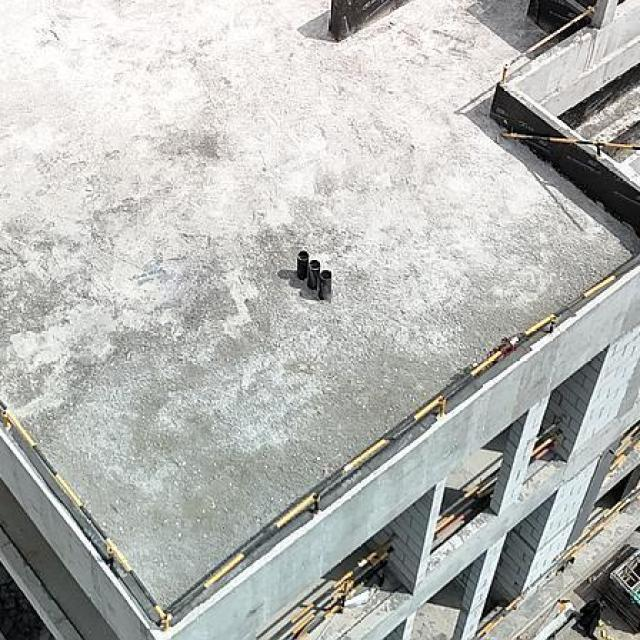edge_guardrail: (0, 249, 640, 632), (270, 532, 394, 639), (502, 5, 594, 84), (564, 486, 639, 558), (433, 465, 500, 535), (501, 131, 639, 156), (476, 593, 521, 638), (610, 422, 639, 474), (530, 422, 556, 464)
